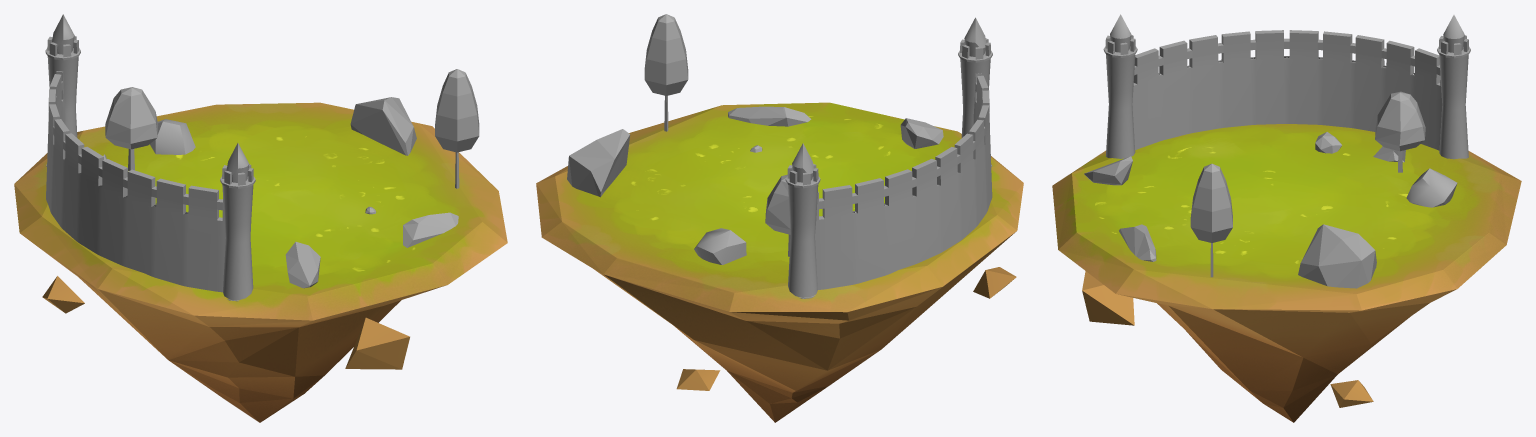
The model's file is batoru_zo-nn.fbx.
The picture shows the model from 3 angles, left to right: view 1: azimuth 30°, elevation 25°; view 2: azimuth 150°, elevation 25°; view 3: azimuth 270°, elevation 25°; orthographic projection. The views are drawn at different scales.
Visible parts, largest first — view 1: tikei4, kabe, pSphere1 (×2), pCylinder1 (×2), shard2, shard3, shard1, isi, pCone1 (×2); view 2: tikei4, kabe, pCylinder1 (×2), pSphere1 (×2), shard2, isi, shard1, pCone1 (×2), shard3; view 3: tikei4, kabe, pCylinder1 (×2), pSphere1 (×2), shard2, isi, pCone1 (×2), shard1, shard3, shard5.
Part boxes in pixels (x1,y1,x2,y2): tikei4: [14, 102, 507, 422]; kabe: [46, 71, 225, 292]; pSphere1 (×2): [105, 69, 479, 152]; pCylinder1 (×2): [45, 36, 255, 301]; shard2: [350, 97, 416, 155]; shard3: [285, 241, 320, 288]; shard1: [403, 212, 458, 247]; isi: [149, 119, 195, 154]; pCone1 (×2): [52, 14, 249, 182]; tikei4: [536, 102, 1023, 422]; kabe: [815, 73, 992, 289]; pCylinder1 (×2): [785, 38, 992, 298]; pSphere1 (×2): [644, 14, 790, 234]; shard2: [567, 129, 630, 197]; isi: [694, 228, 746, 264]; shard1: [728, 106, 811, 126]; pCone1 (×2): [792, 17, 986, 182]; shard3: [900, 118, 943, 148]; tikei4: [1052, 124, 1521, 422]; kabe: [1132, 30, 1442, 150]; pCylinder1 (×2): [1103, 34, 1470, 159]; pSphere1 (×2): [1190, 91, 1425, 242]; shard2: [1298, 224, 1376, 288]; isi: [1406, 168, 1457, 207]; pCone1 (×2): [1110, 14, 1464, 52]; shard1: [1119, 224, 1156, 261]; shard3: [1084, 156, 1132, 185]; shard5: [1315, 132, 1341, 153].
Size of the model in its own units: 370 by 303 by 361.
3 materials, 1 textured.
